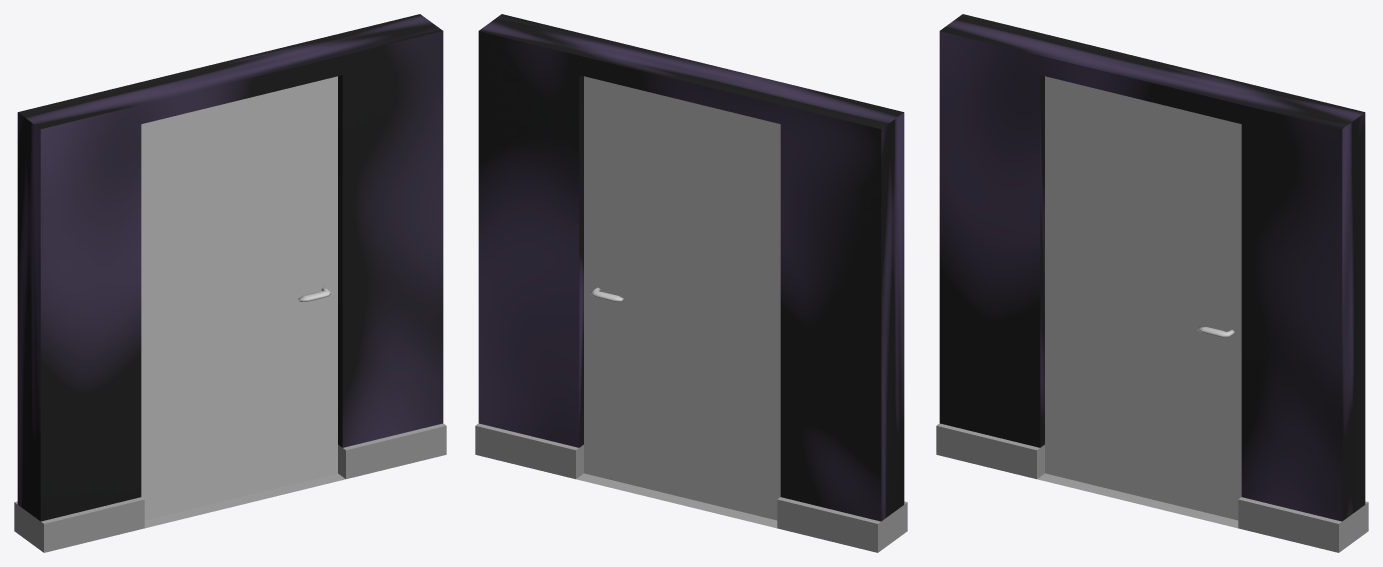
The model's file is Puerta.fbx.
The picture shows the model from 3 angles, left to right: view 1: azimuth 30°, elevation 25°; view 2: azimuth 150°, elevation 25°; view 3: azimuth 330°, elevation 25°; orthographic projection.
Parts seen in each view (by area): view 1: Marco Puerta, Puerta; view 2: Marco Puerta, Puerta; view 3: Marco Puerta, Puerta.
Boxes of the visible parts, left/top/right/bottom form: Marco Puerta: left=14, top=14, right=446, bottom=552; Puerta: left=141, top=76, right=337, bottom=520; Marco Puerta: left=475, top=14, right=907, bottom=552; Puerta: left=584, top=76, right=780, bottom=520; Marco Puerta: left=936, top=14, right=1368, bottom=552; Puerta: left=1045, top=76, right=1241, bottom=520.
Size of the model in its own units: 200 by 200 by 25.64.
